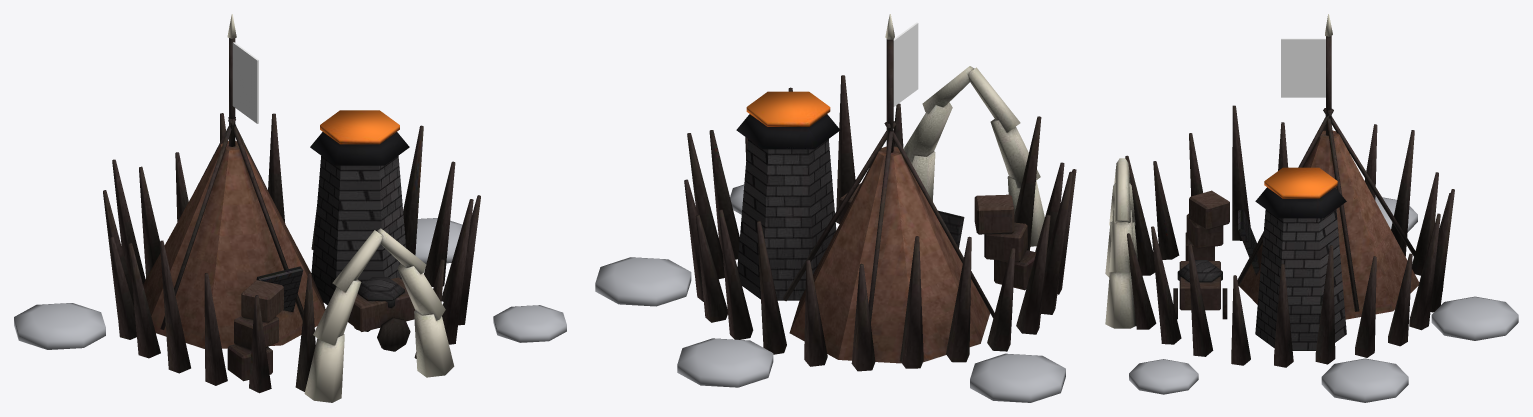
The model's file is asch_outpost.glb.
3 views of the same model, side by side, from view 1: azimuth 30°, elevation 25°; view 2: azimuth 150°, elevation 25°; view 3: azimuth 270°, elevation 25° (orthographic). The views are drawn at different scales.
Visible parts, largest first — view 1: asch_outpost, Schnee, Fahne1; view 2: asch_outpost, Schnee, Fahne1; view 3: asch_outpost, Schnee, Fahne1.
Part boxes in pixels (x1,y1,x2,y2): asch_outpost: (103, 14, 480, 402); Schnee: (14, 218, 566, 349); Fahne1: (232, 42, 258, 123); asch_outpost: (684, 14, 1076, 371); Schnee: (595, 184, 1065, 402); Fahne1: (893, 22, 918, 106); asch_outpost: (1105, 14, 1454, 367); Schnee: (1129, 196, 1518, 402); Fahne1: (1281, 38, 1325, 97).
Bounding box in the file's own units: 5.15 × 3.4 × 4.51.
3 materials, 1 textured.
